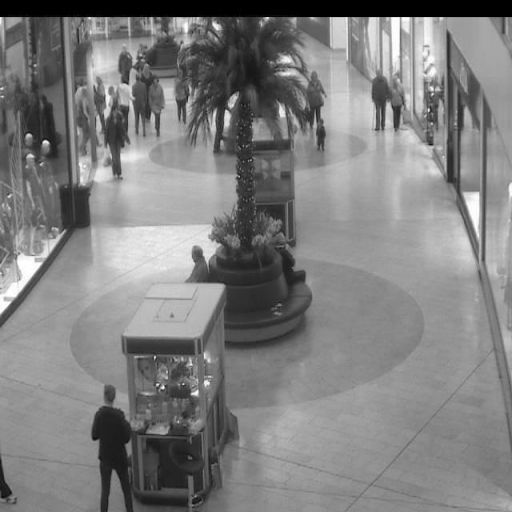person: (91, 385, 134, 512), (103, 105, 126, 180), (305, 69, 327, 126), (181, 241, 209, 283), (371, 70, 389, 131), (117, 74, 133, 140), (148, 74, 164, 136), (173, 71, 190, 123), (389, 70, 403, 130), (133, 74, 146, 137), (92, 74, 106, 132), (116, 43, 132, 84), (315, 116, 326, 149), (106, 83, 116, 108)
